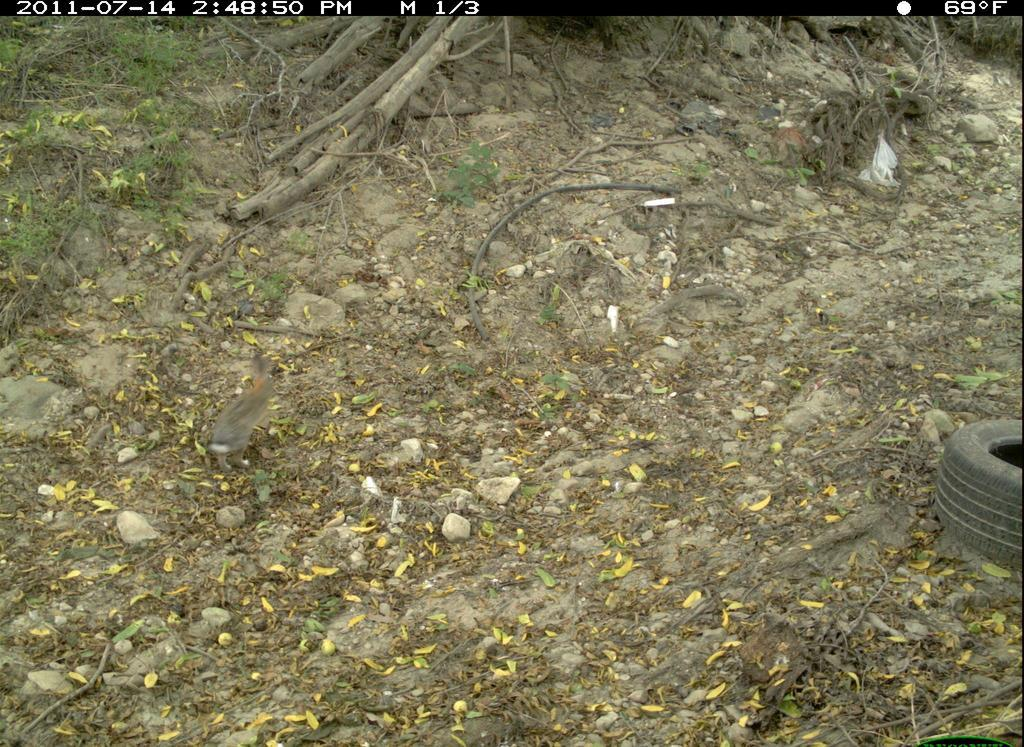rabbit: (198, 340, 291, 474)
